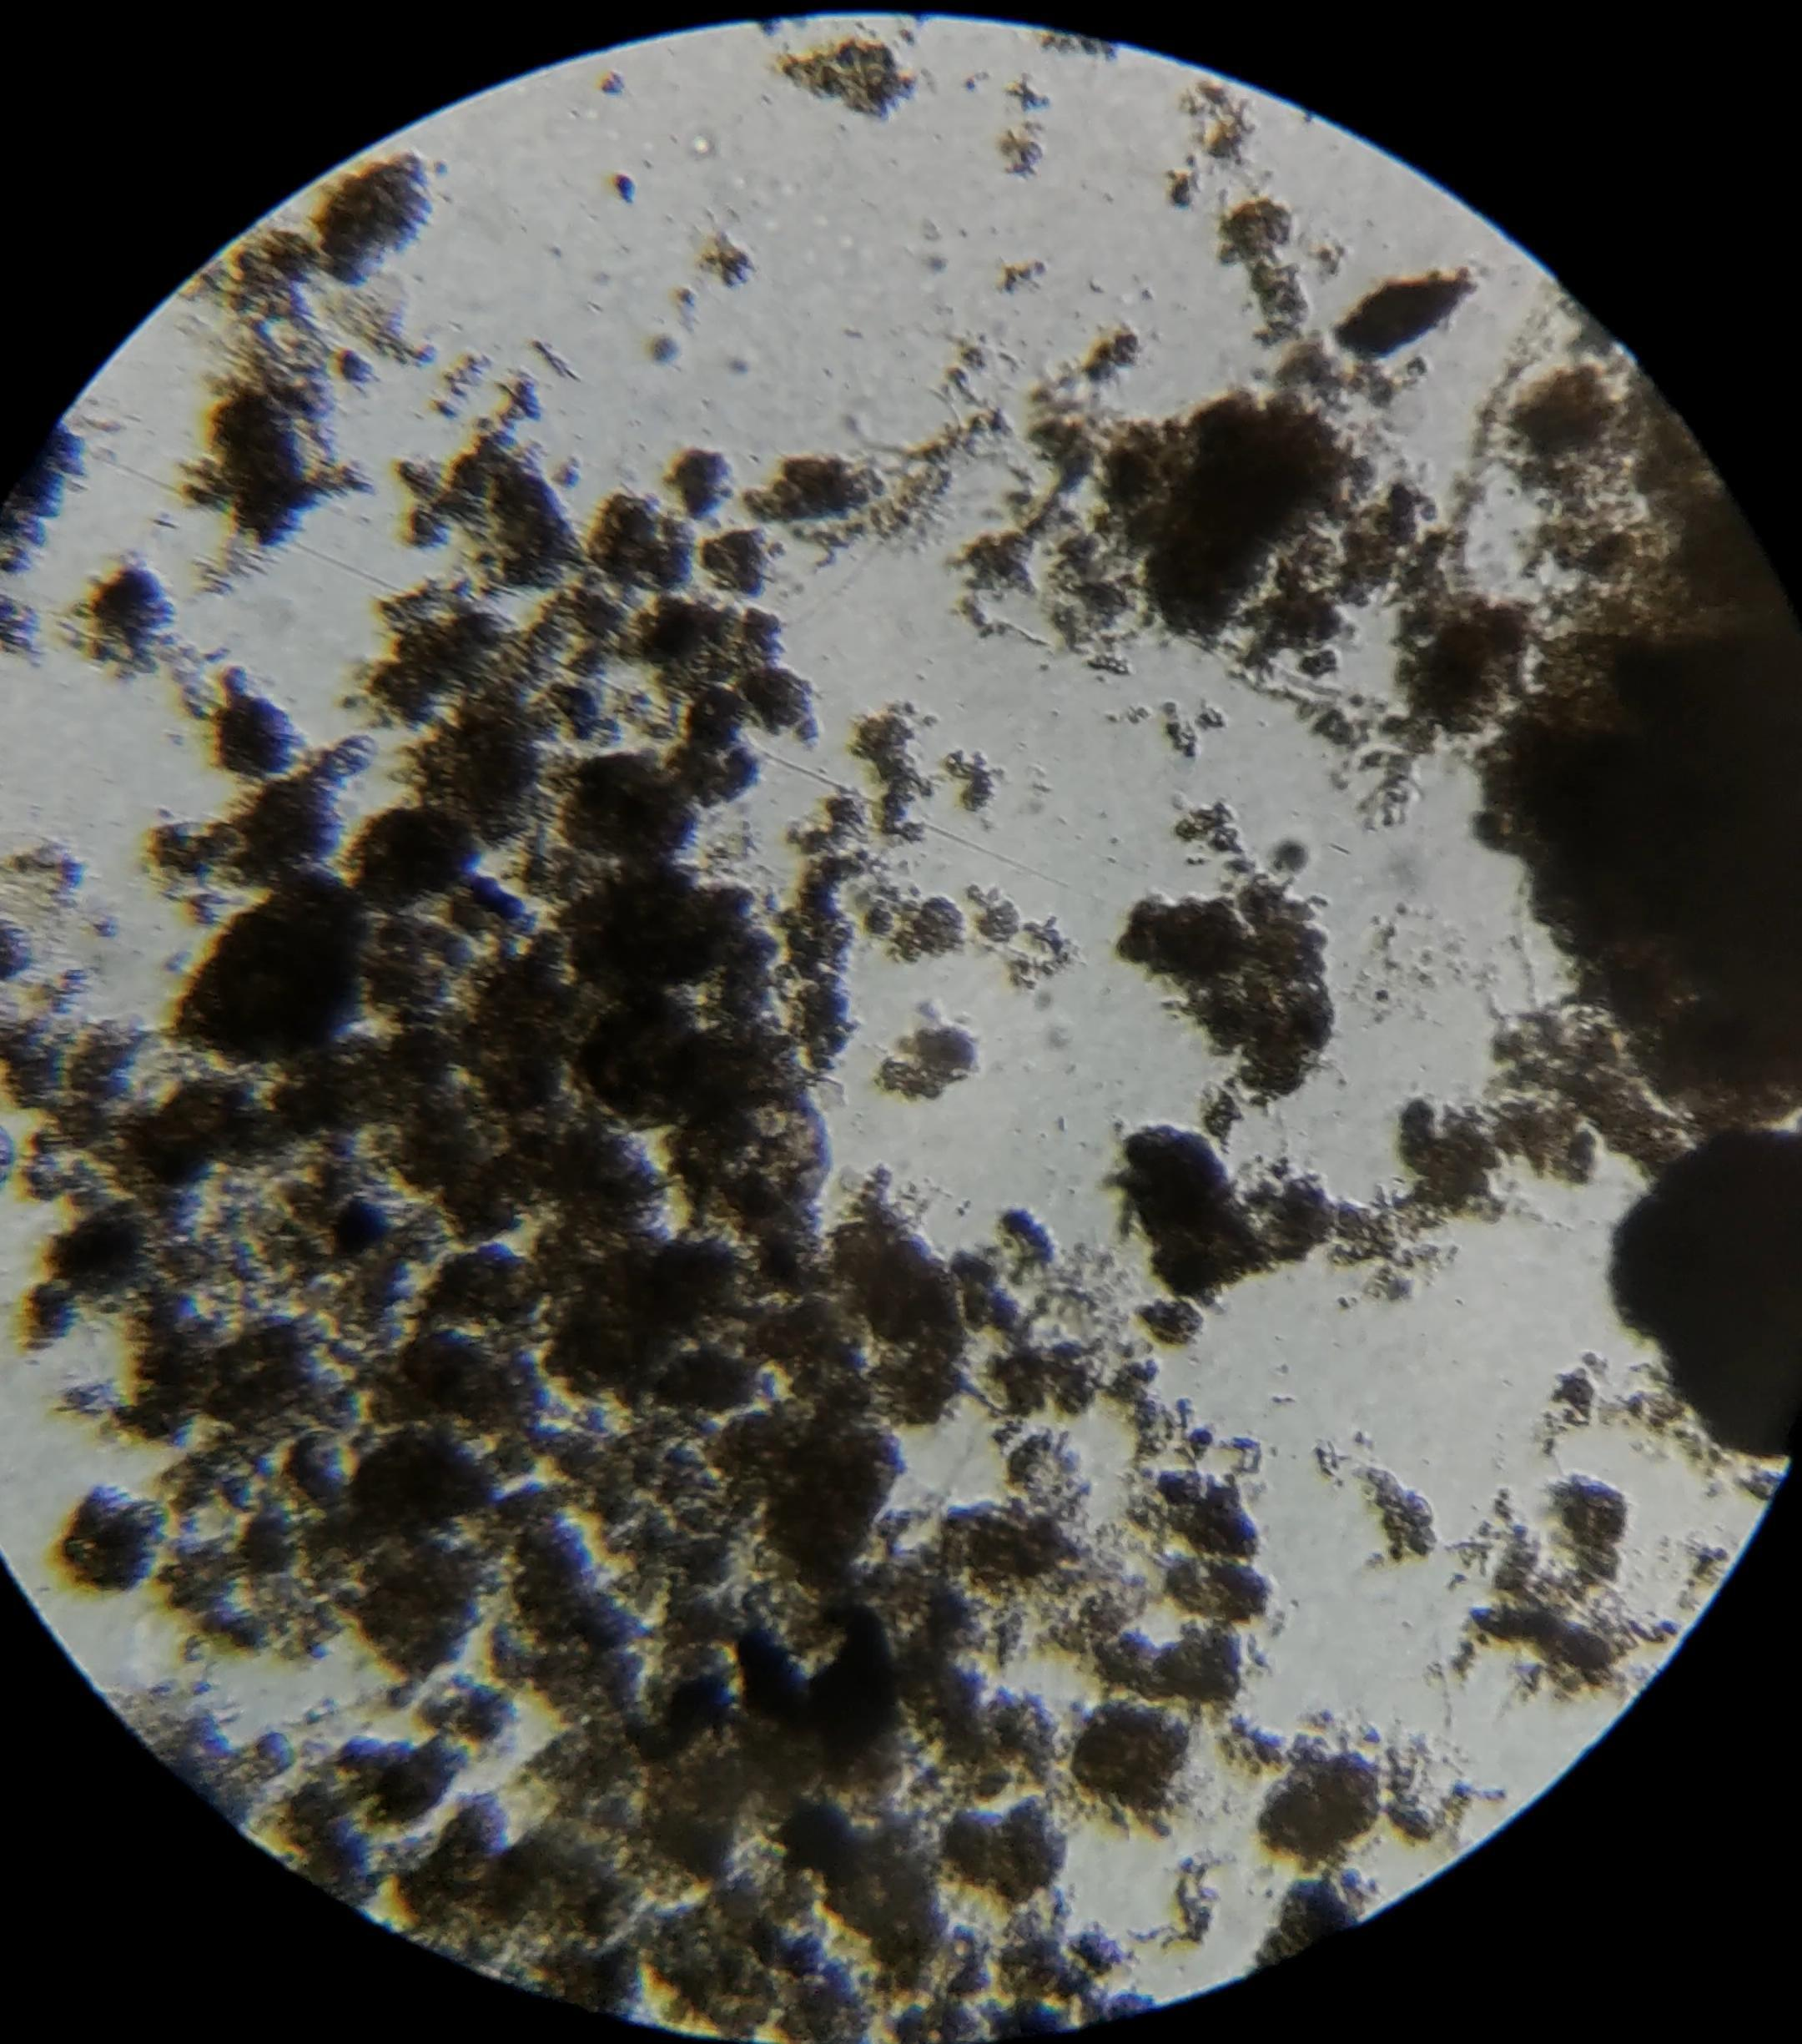Arcella: (685, 1091, 828, 1232)
